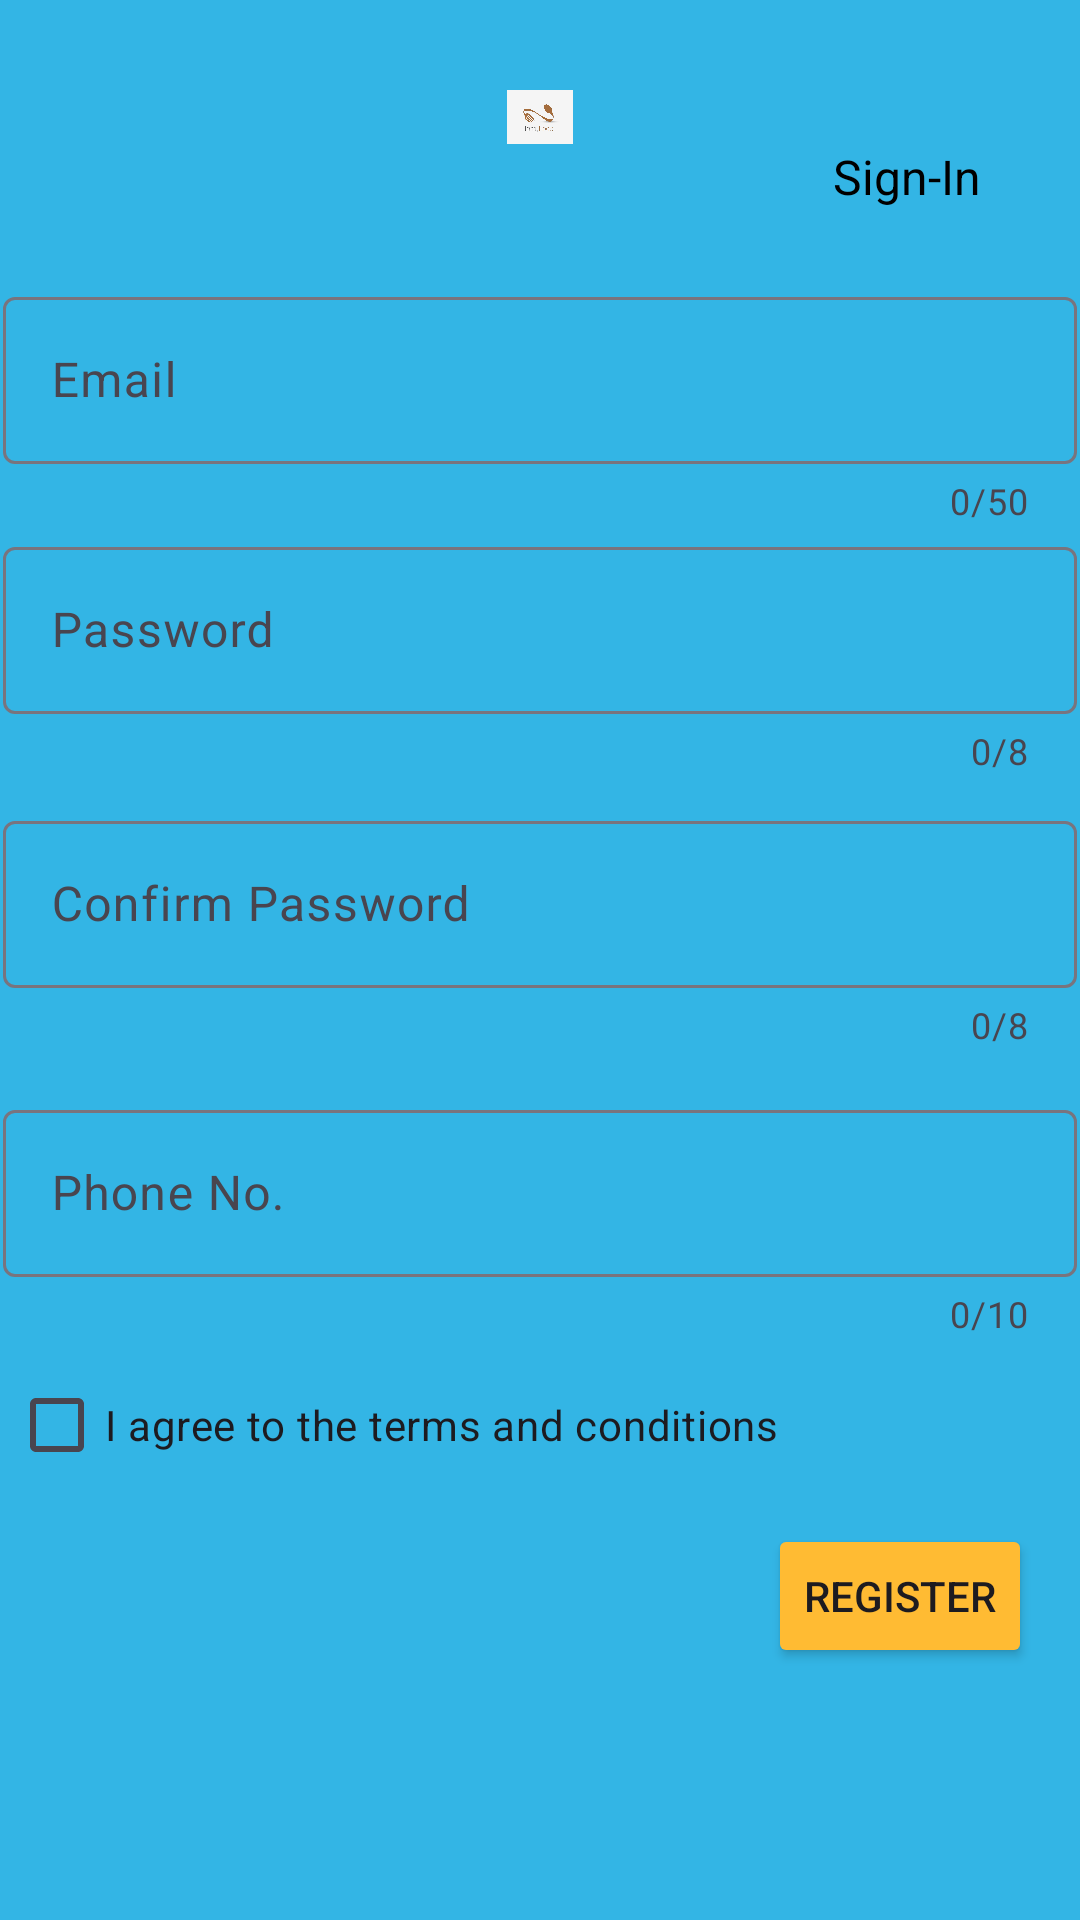

Named icons in this screenshot (1080 x 1920) and their centers, [x,y]:
ecipe: [540,117]
